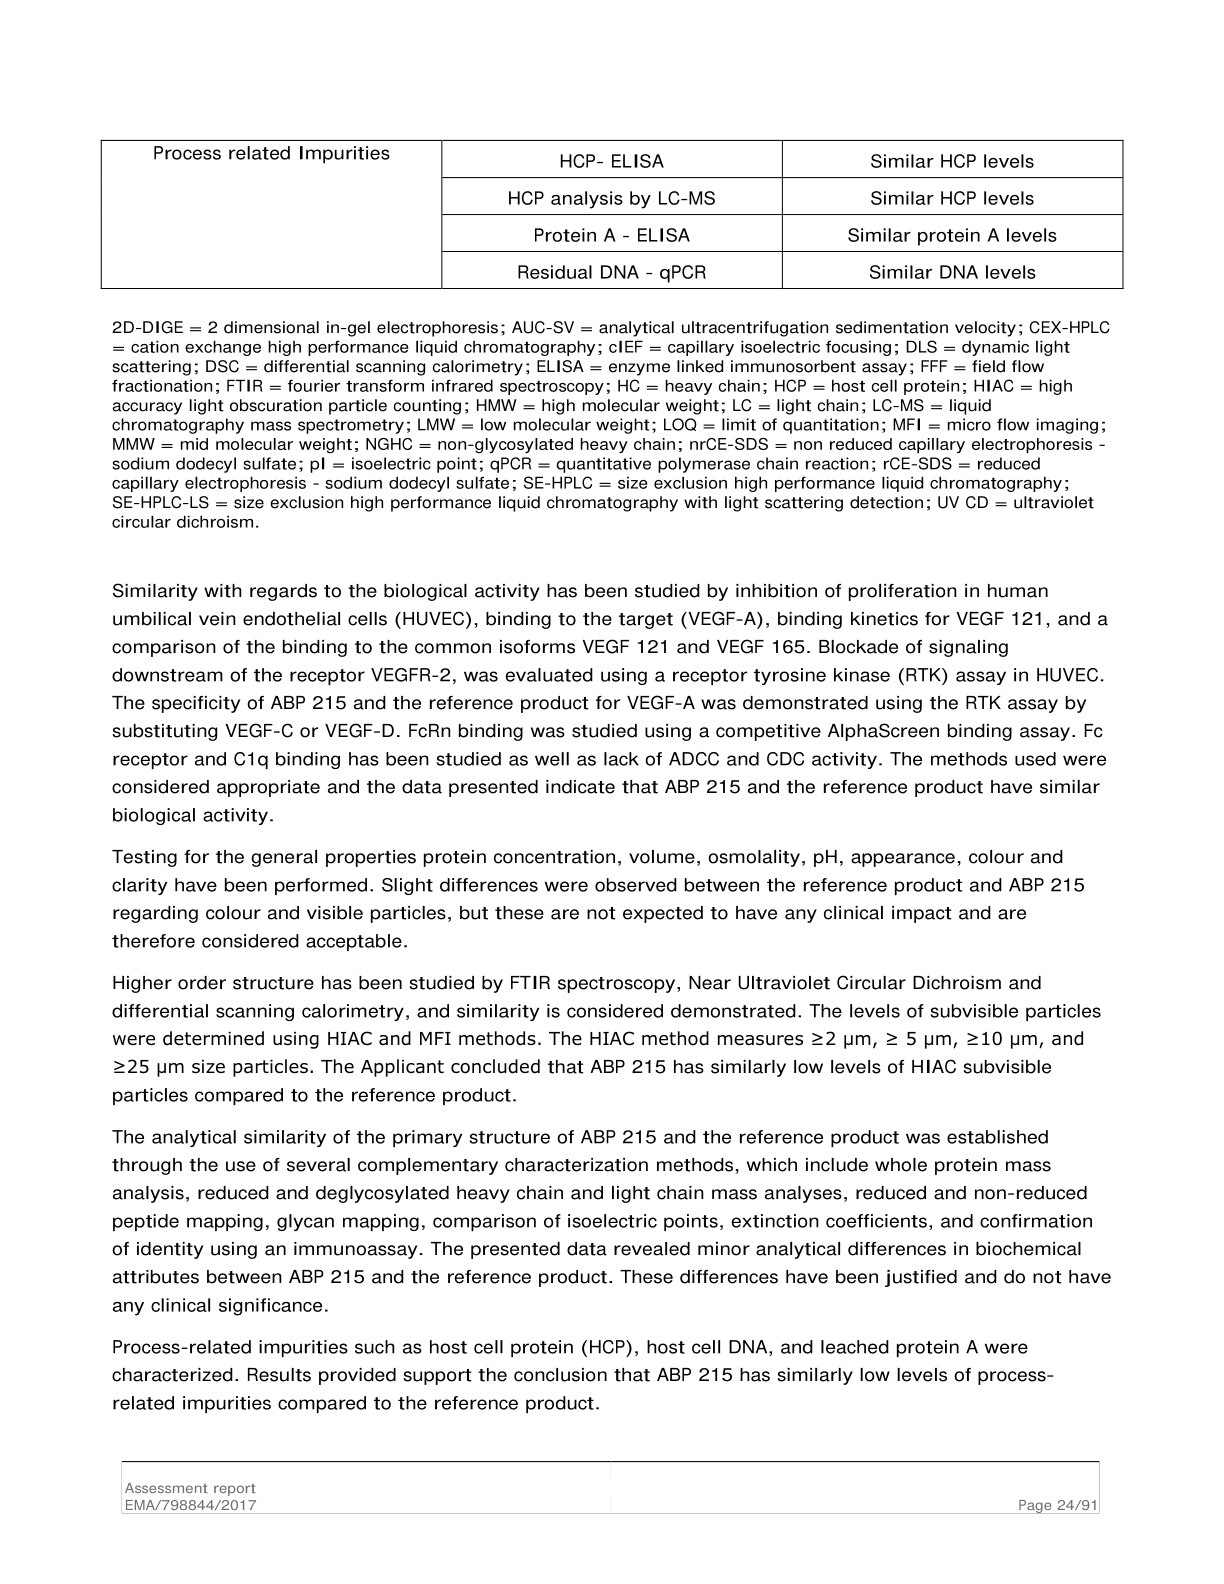merged_cells: (100, 139, 1125, 289)
